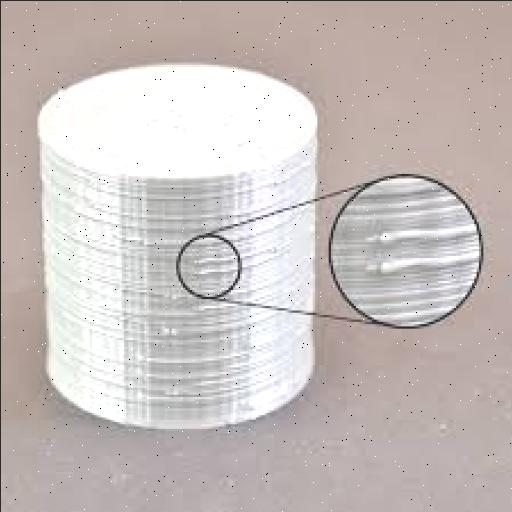blobs: (180, 244, 238, 292), (135, 372, 197, 410)
